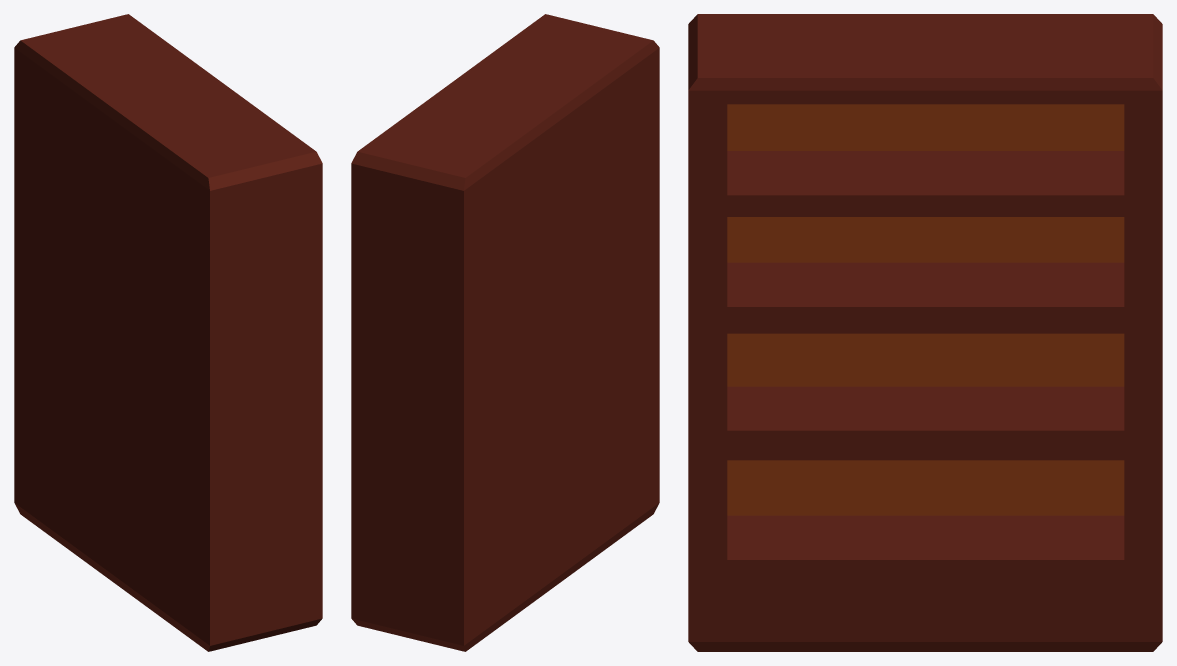
Rendered from bookshelf.fbx.
The picture shows the model from 3 angles, left to right: view 1: azimuth 30°, elevation 25°; view 2: azimuth 150°, elevation 25°; view 3: azimuth 270°, elevation 25°; orthographic projection. The views are drawn at different scales.
Visible parts, largest first — view 1: Cube; view 2: Cube; view 3: Cube.
Boxes of the visible parts, left/top/right/bottom form: Cube: left=14, top=14, right=322, bottom=651; Cube: left=351, top=14, right=659, bottom=651; Cube: left=688, top=14, right=1162, bottom=651.
Size of the model in its own units: 200 by 804 by 602.
